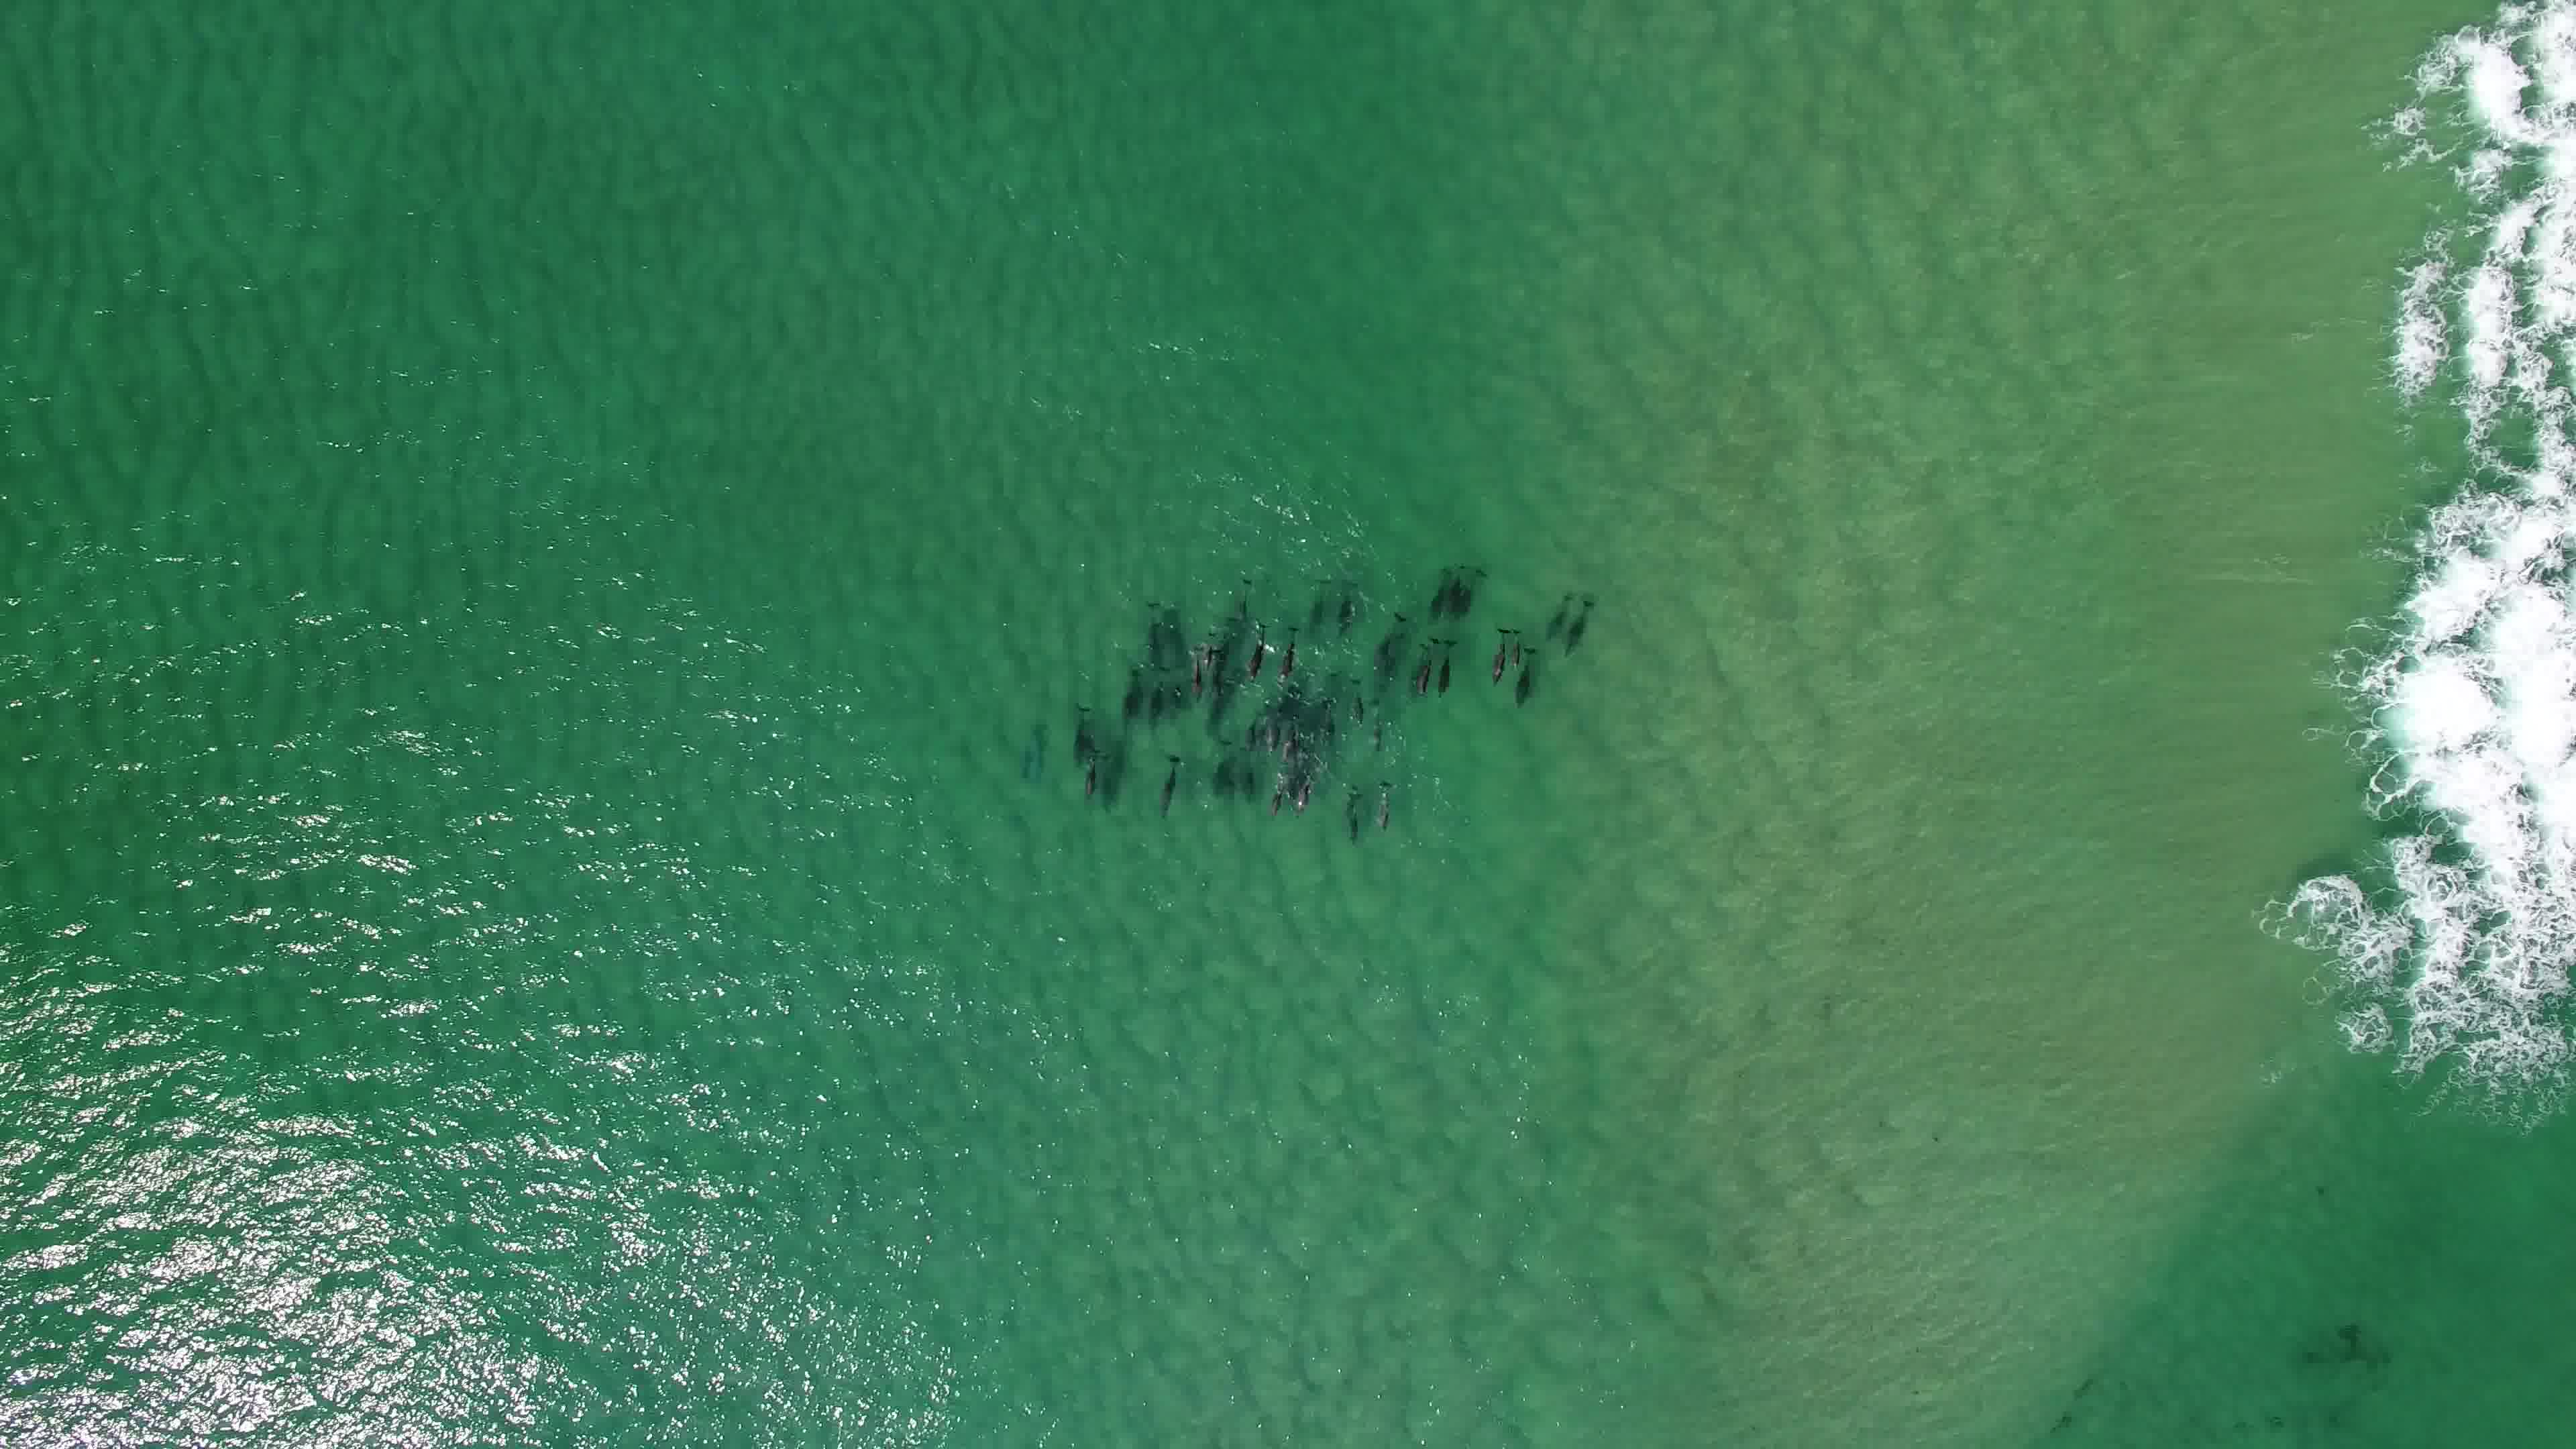dolphin: (1146, 745, 1187, 819), (1062, 690, 1102, 761), (1479, 625, 1511, 694), (1077, 740, 1111, 803), (1366, 775, 1398, 840), (1369, 621, 1401, 676), (1258, 771, 1292, 817), (1240, 625, 1265, 685), (1502, 612, 1525, 674), (1366, 692, 1389, 752), (1433, 639, 1454, 701), (1410, 646, 1433, 701), (1258, 709, 1283, 759), (1180, 646, 1205, 694), (1336, 686, 1364, 725), (1292, 766, 1315, 814), (1272, 639, 1293, 686)
